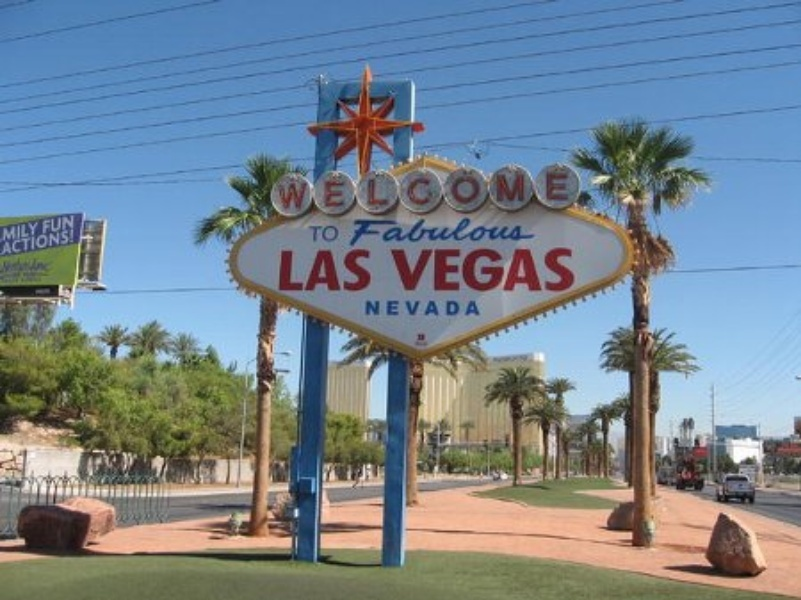text: (401, 246, 416, 292), (417, 246, 432, 292), (433, 246, 448, 292), (449, 246, 464, 292), (465, 246, 480, 292), (481, 246, 496, 292), (497, 246, 512, 292), (513, 246, 528, 292), (529, 246, 544, 292), (545, 246, 560, 292), (289, 248, 304, 292), (305, 248, 320, 292), (321, 248, 336, 292), (337, 248, 352, 292), (353, 248, 368, 292), (561, 246, 575, 292), (289, 173, 304, 211), (305, 173, 320, 211), (321, 173, 336, 211), (337, 173, 352, 211), (353, 173, 368, 211), (369, 173, 384, 211), (385, 173, 400, 211), (401, 173, 416, 211), (417, 173, 432, 211), (433, 173, 448, 211), (449, 173, 464, 211), (465, 173, 480, 211), (481, 173, 496, 211), (497, 173, 512, 211), (513, 173, 528, 211), (529, 173, 544, 211), (545, 173, 560, 211), (389, 246, 400, 292), (275, 173, 288, 211), (561, 173, 574, 211), (353, 216, 368, 248), (369, 216, 384, 248), (385, 216, 400, 248), (401, 216, 416, 248), (417, 216, 432, 248), (433, 216, 448, 248), (449, 216, 464, 248), (465, 216, 480, 248), (481, 216, 496, 248), (497, 216, 512, 248), (513, 216, 528, 248), (17, 227, 32, 257), (33, 227, 48, 257), (49, 227, 64, 257), (2, 227, 16, 257), (1, 219, 16, 243), (17, 219, 32, 243), (1, 260, 16, 284), (17, 260, 32, 284), (33, 260, 48, 284), (529, 216, 540, 248), (280, 248, 288, 292), (49, 214, 64, 234), (65, 227, 75, 257), (321, 225, 336, 243), (369, 300, 384, 316), (385, 300, 400, 316), (401, 300, 416, 316), (417, 300, 432, 316), (433, 300, 448, 316), (449, 300, 464, 316), (307, 225, 320, 243), (465, 300, 479, 316), (65, 214, 75, 234), (33, 219, 40, 243), (41, 214, 48, 234), (369, 248, 371, 292), (49, 260, 52, 284), (365, 300, 368, 316), (337, 225, 339, 243)
